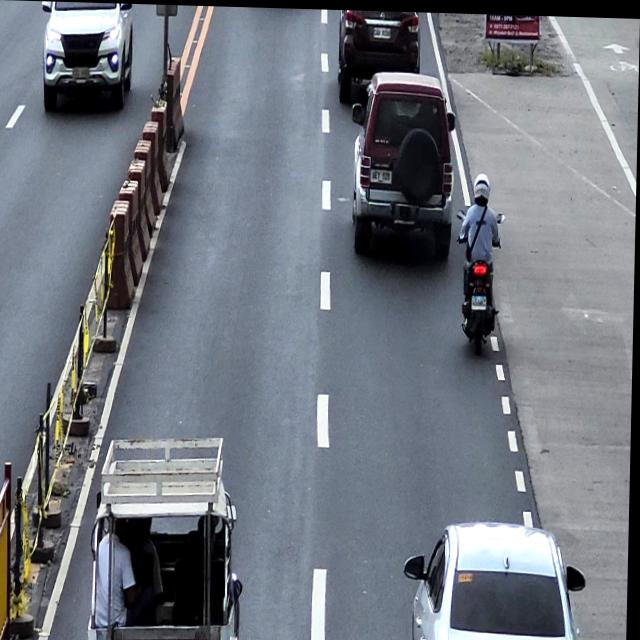Car: (96, 432, 248, 640), (404, 512, 590, 640), (350, 65, 458, 266), (41, 2, 134, 116), (337, 8, 420, 108)
License-Plate: (371, 166, 393, 182), (373, 24, 391, 38), (71, 66, 90, 79), (473, 293, 488, 307)
Motorcycle: (455, 204, 507, 345)
